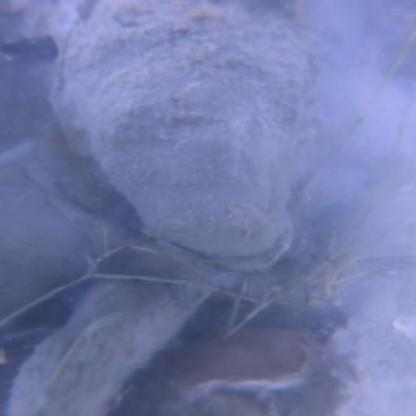Oyster- Indeterminate: (54, 2, 324, 267)
Oyster-Closed: (5, 254, 193, 413), (0, 146, 90, 314), (166, 328, 320, 401)
